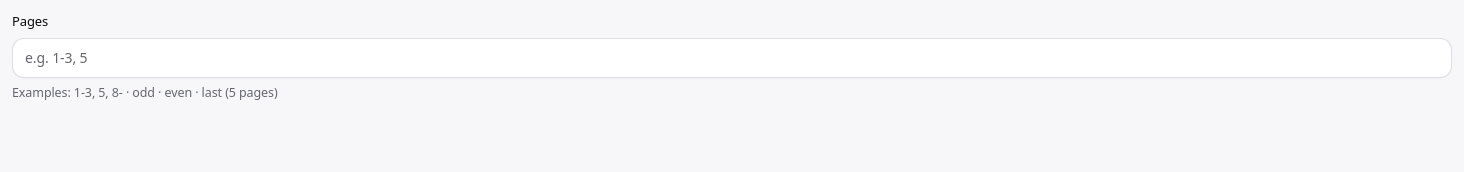
it: PageRangeField › validates on blur and shows a helpful error
Later steps or results of the test are not shown.
In the field labelled "Pages": (732, 58) [12,38,1452,78], type "2-9"
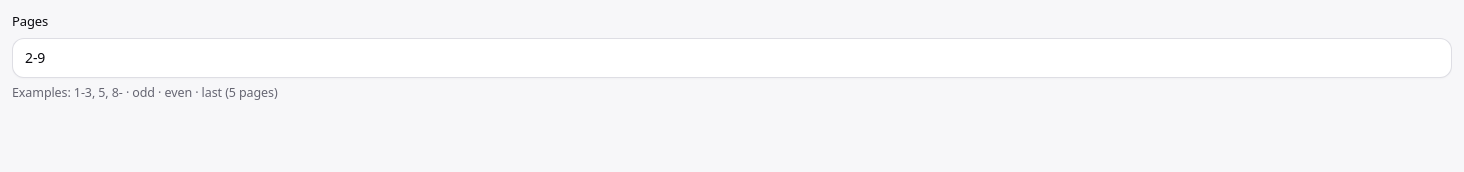
Leave the field labelled "Pages", box [12,38,1452,78]
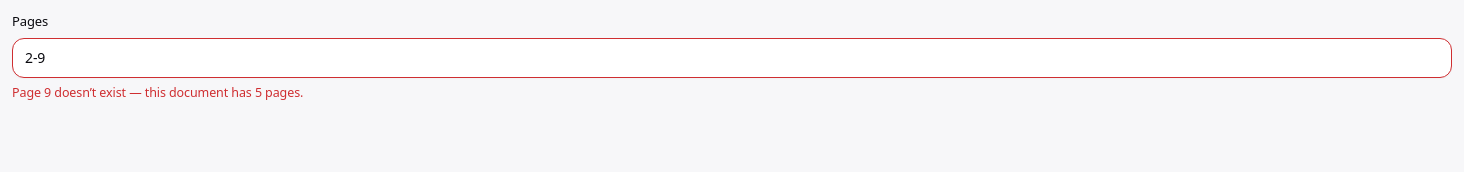
Expected: the message shows "Page 9 doesn’t exist", [12,84,303,100]
